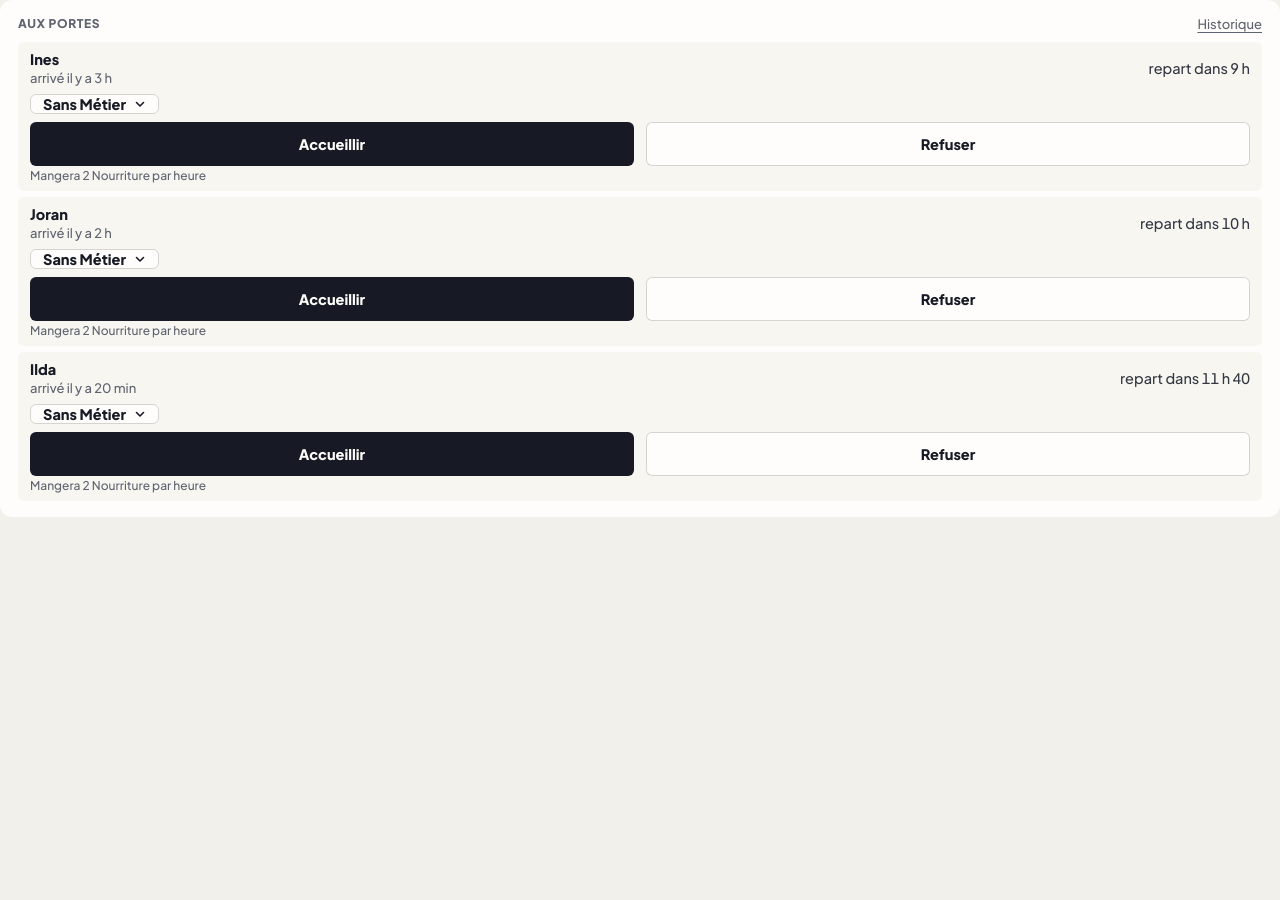
Test: donner un Métier dès l'accueil (US-0335) › déplie sous le bouton les huit Métiers, chacun un bouton à son icône muette et à son nom, sans « Sans Métier » tant qu'aucun n'est choisi
Click the button "Sans Métier" below "Joran" at (94, 259), box left=30, top=249, right=159, bottom=269
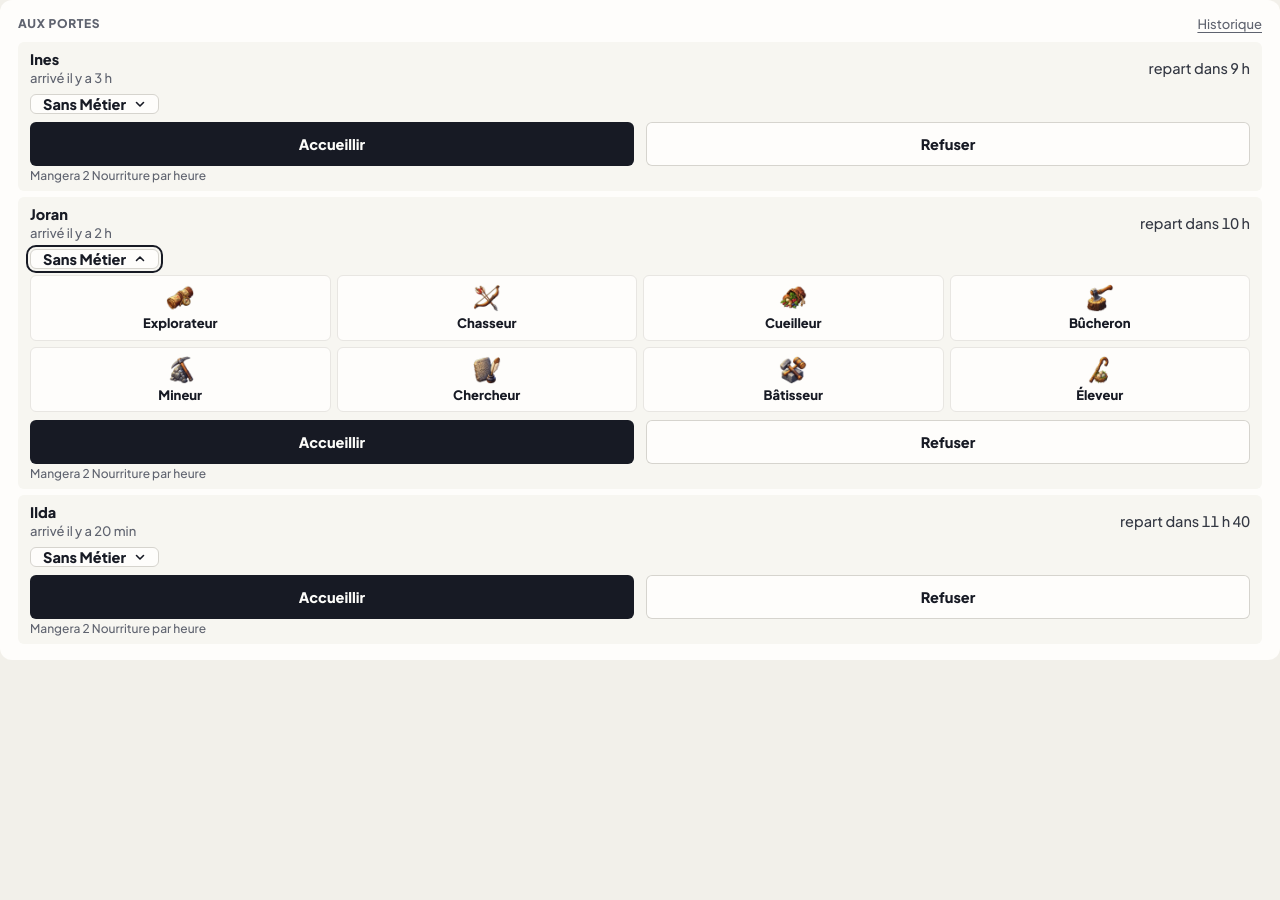
expect the button "Sans Métier" below "Joran" is expanded: met, box left=30, top=249, right=159, bottom=269
